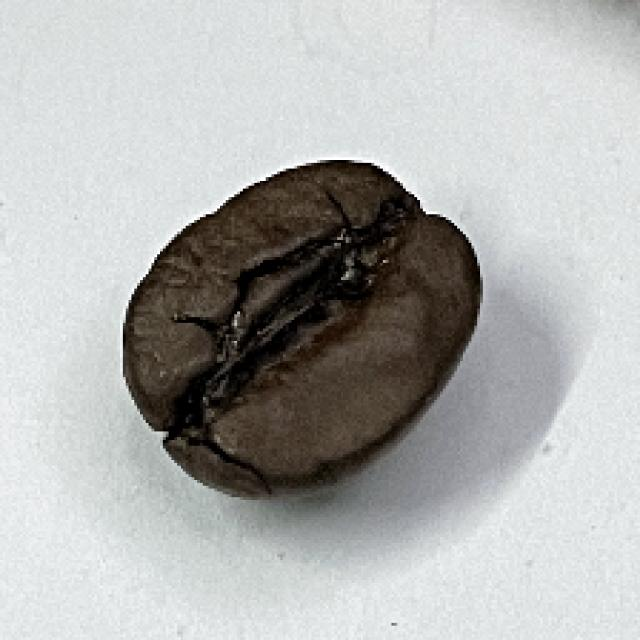bean: (118, 158, 486, 501)
